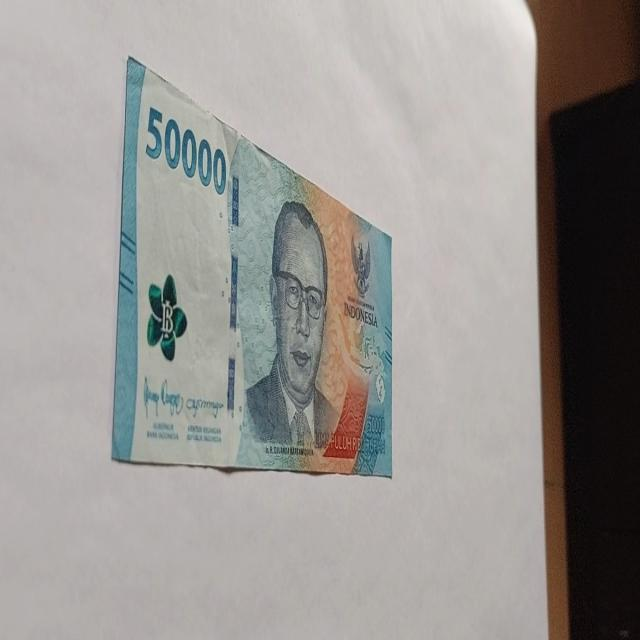lima puluh ribu rupiah: (110, 55, 394, 477), (242, 198, 341, 460), (144, 103, 228, 196)
